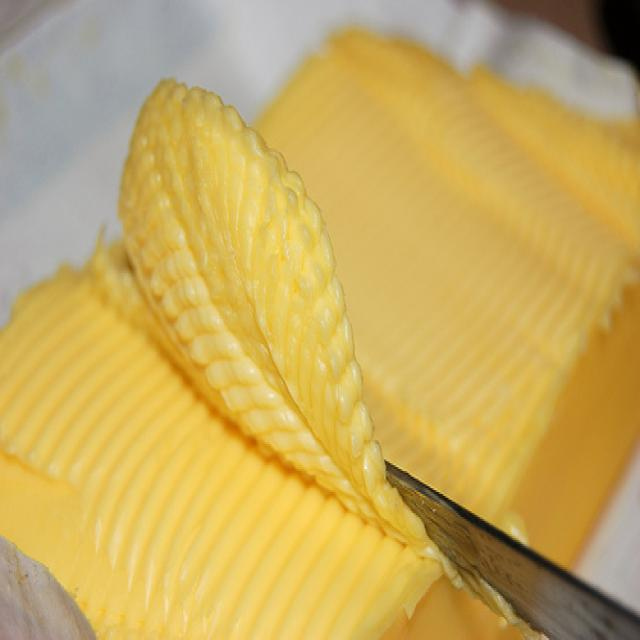Butter: (13, 40, 619, 640)
